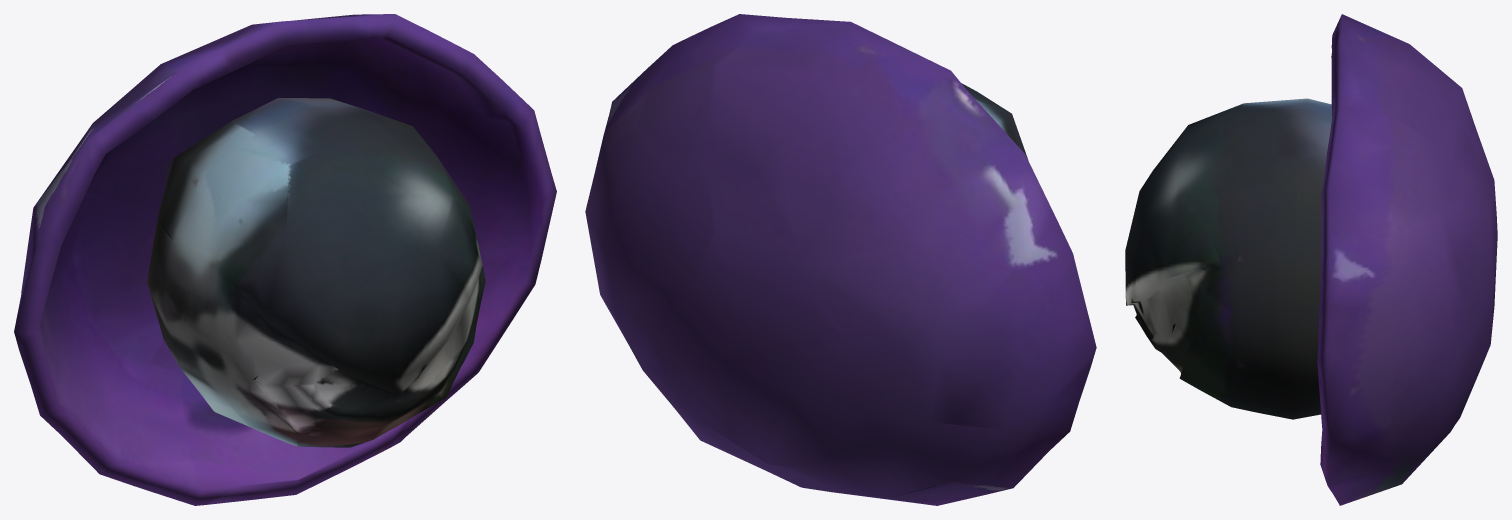
The model's file is tripo-creature-23.glb.
The picture shows the model from 3 angles, left to right: view 1: azimuth 30°, elevation 25°; view 2: azimuth 150°, elevation 25°; view 3: azimuth 270°, elevation 25°; orthographic projection. The views are drawn at different scales.
Visible parts, largest first — view 1: Body; view 2: Body; view 3: Body.
Boxes of the visible parts, x1,y1,x2,y2 form: Body: (14,14,556,505); Body: (585,14,1096,505); Body: (1125,14,1497,505).
Bounding box in the file's own units: 0.9226 × 0.8 × 0.6129.
1 material, 1 textured.
